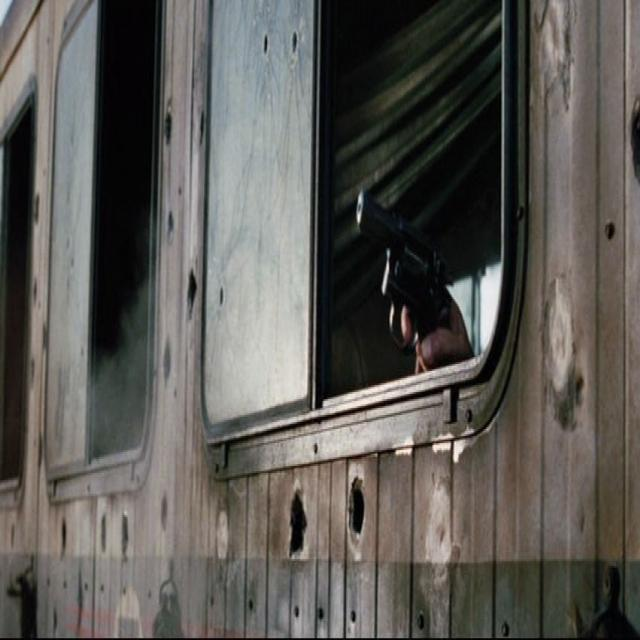gun-knife-thesis - v11 Yolov5 augmented: (347, 168, 480, 406)
